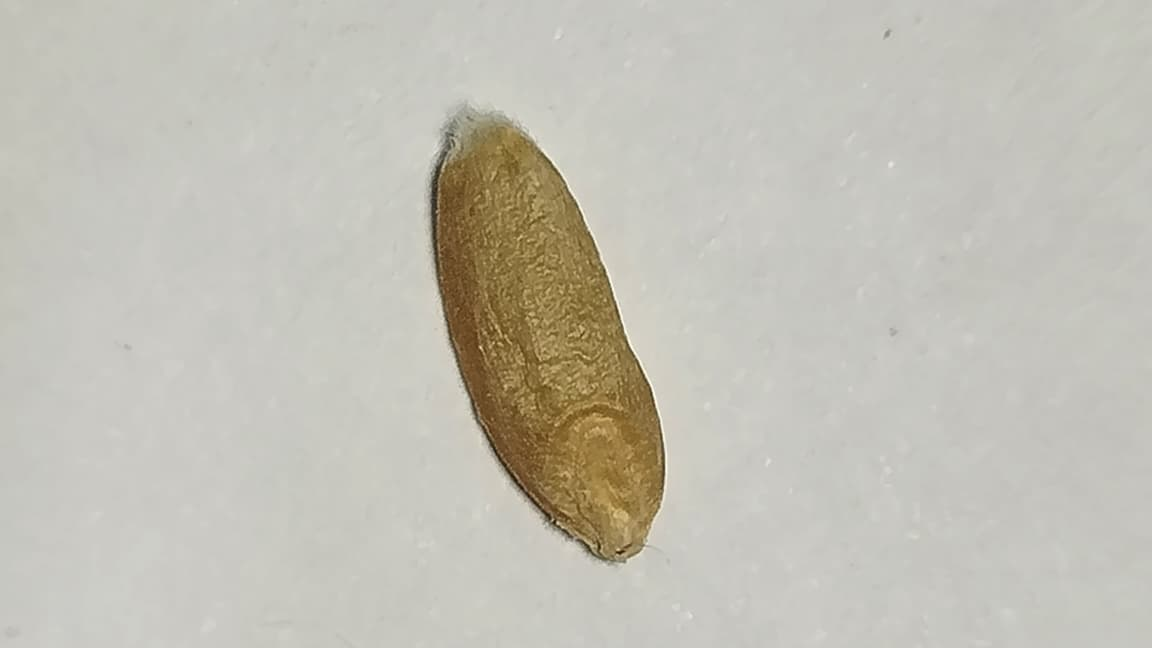healthy: (431, 104, 663, 563)
